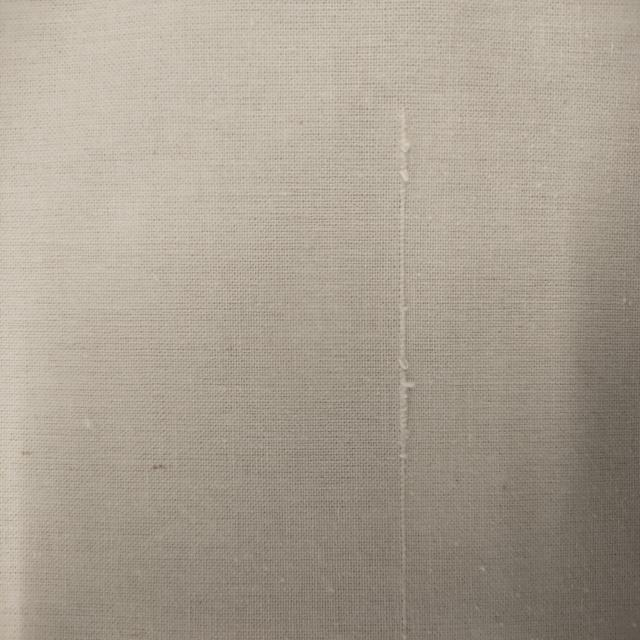Thread_other: (340, 36, 452, 640)
